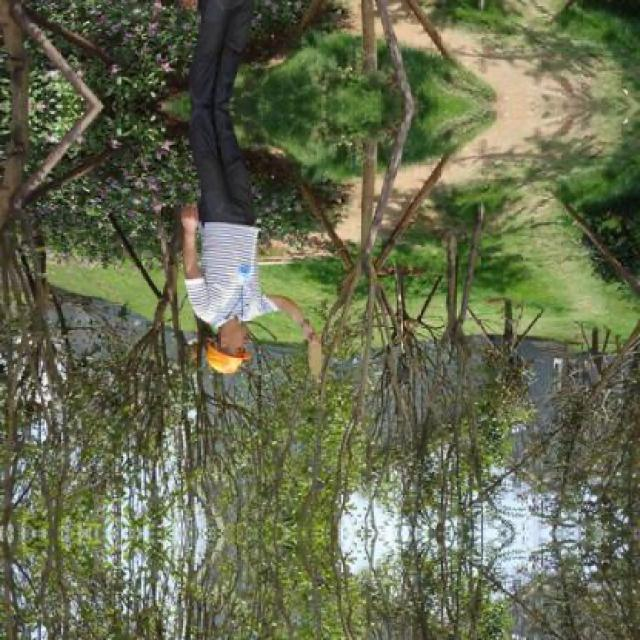con casco: (153, 288, 297, 419)
